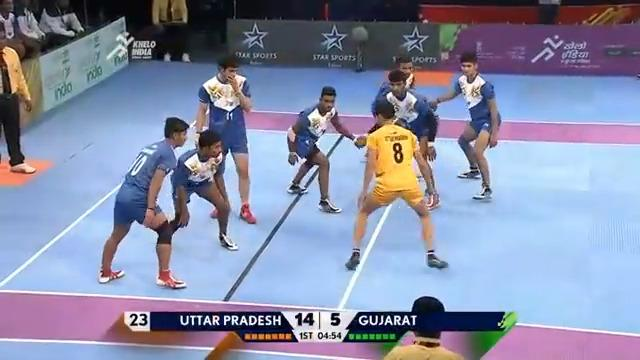Player: (97, 116, 190, 289), (358, 68, 440, 210), (428, 51, 501, 200), (192, 56, 256, 224), (285, 85, 365, 213), (168, 129, 238, 251), (0, 44, 36, 174)
Raider: (344, 97, 448, 270)
referee: (382, 295, 466, 359)
